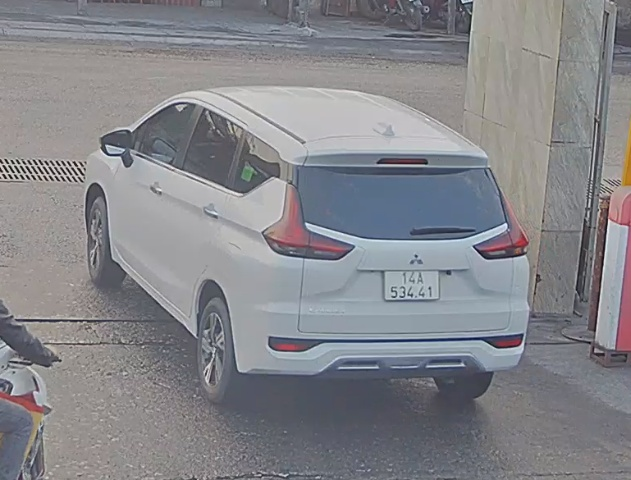vehicle plate: (381, 264, 442, 304)
